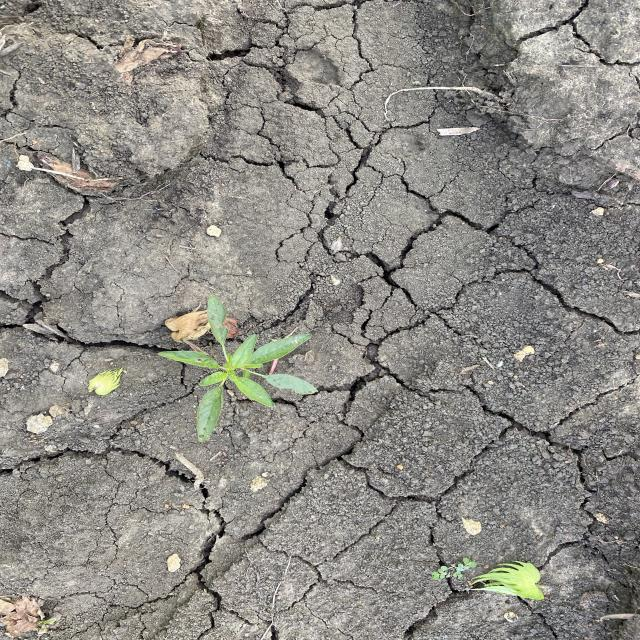SpottedSpurge: (428, 556, 478, 582)
Waterhemp: (155, 294, 321, 443)
